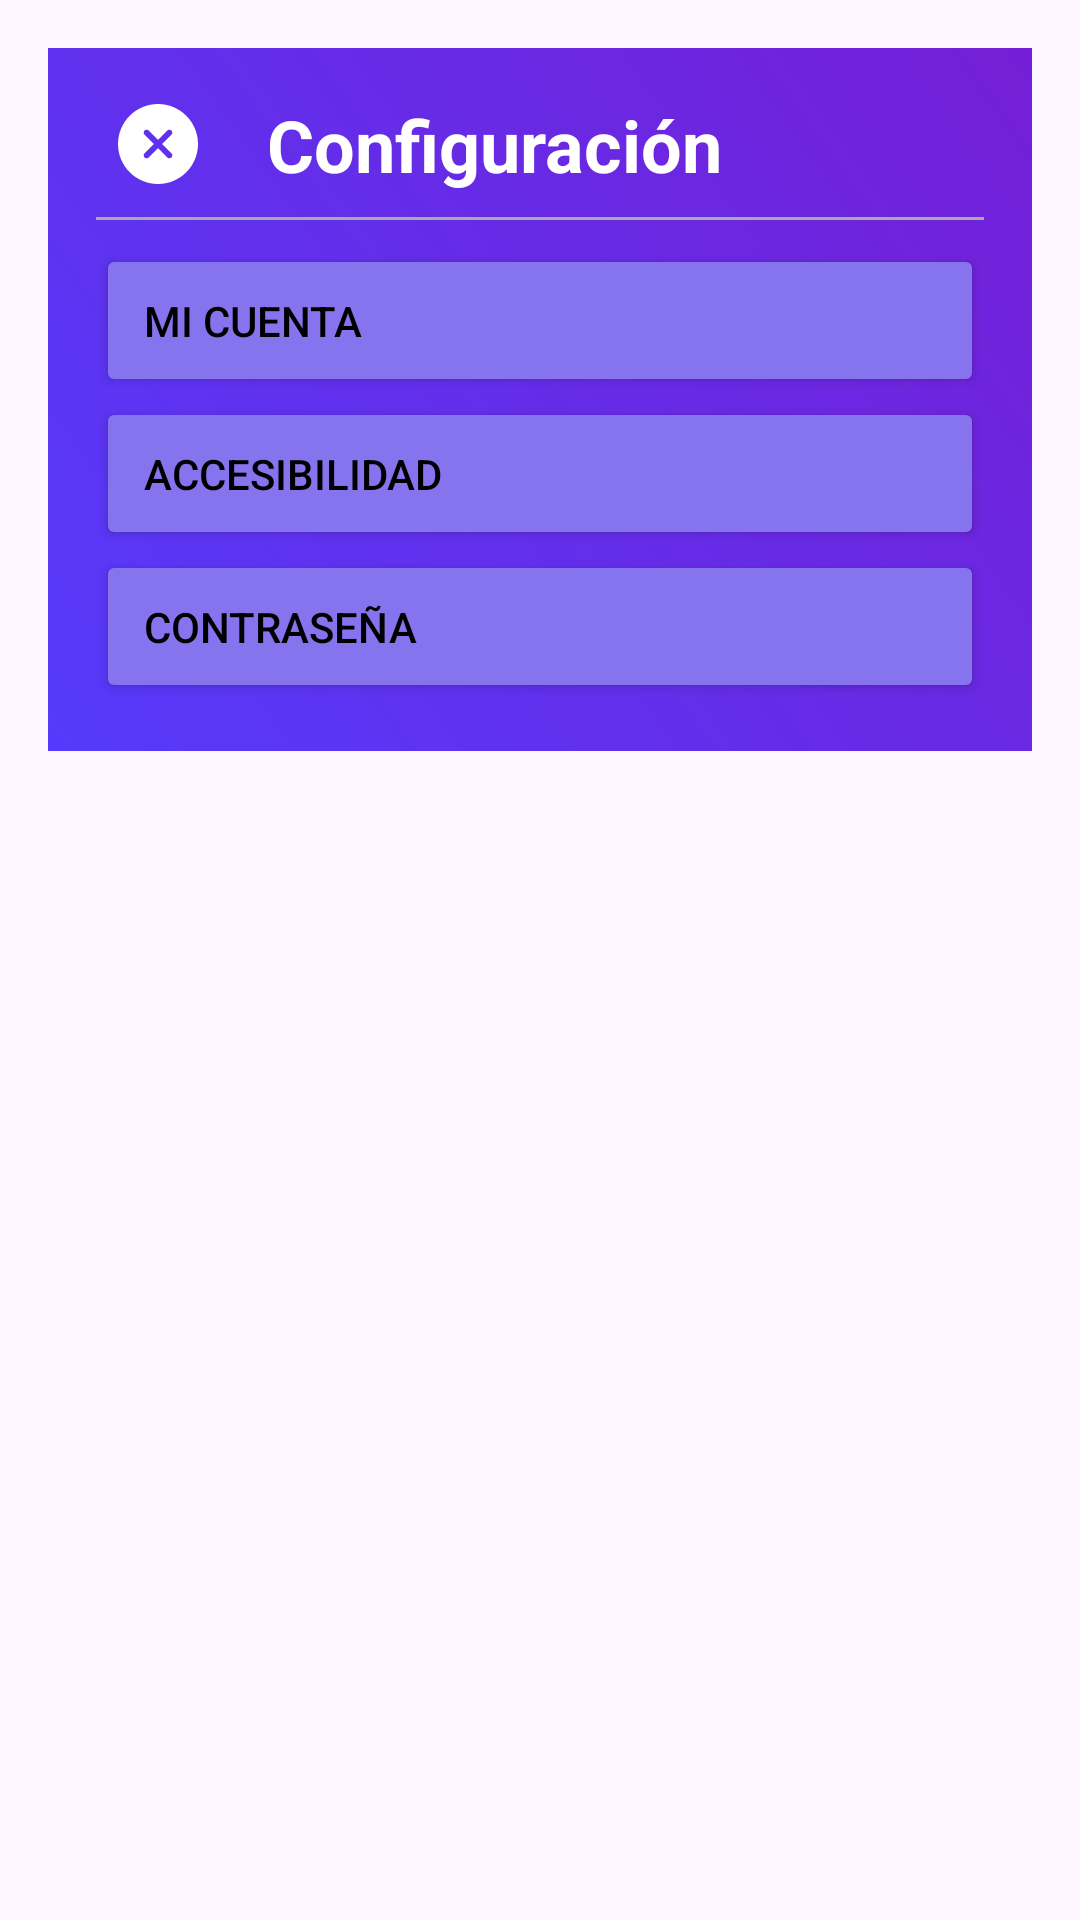

Locate icon controls on the screen. Image size 1080 x 1920, boxes as (x1, y1, x2, y2).
Cerrar: (118, 104, 198, 184)
